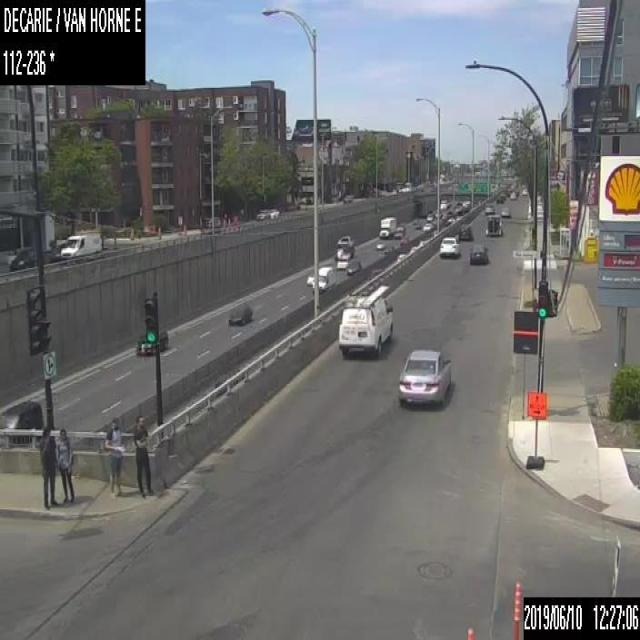construction: (526, 390, 544, 468), (510, 573, 521, 639), (466, 622, 476, 638)
pedestrian: (131, 412, 153, 499), (102, 419, 124, 497), (37, 425, 55, 511), (56, 427, 74, 501)
vehicle: (337, 283, 393, 354), (397, 346, 452, 406), (0, 398, 44, 430), (60, 231, 102, 257), (136, 327, 168, 355), (334, 234, 354, 268), (312, 264, 334, 292), (8, 247, 35, 269), (227, 304, 252, 324), (438, 234, 460, 256), (468, 241, 488, 263), (484, 214, 502, 236), (378, 216, 395, 238), (346, 258, 361, 274), (458, 224, 472, 240), (394, 224, 405, 238), (484, 202, 494, 214), (256, 208, 268, 218), (439, 199, 450, 209), (268, 207, 278, 218), (305, 271, 313, 284), (422, 222, 433, 231), (501, 206, 509, 216), (375, 242, 384, 250), (509, 190, 516, 198), (426, 213, 433, 221), (496, 195, 503, 202), (522, 188, 528, 195)
